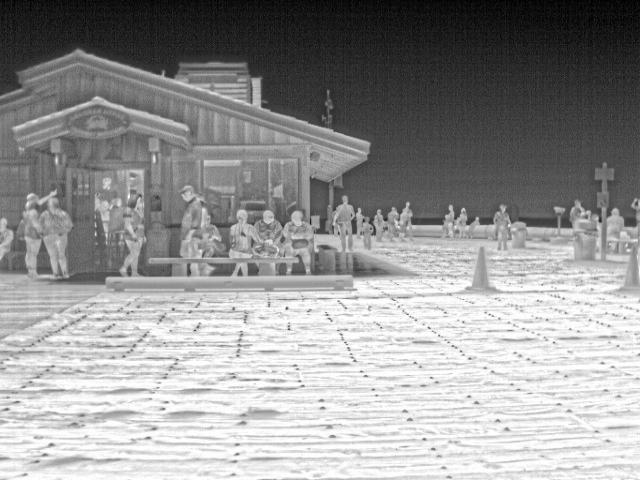person: (116, 188, 147, 278), (39, 194, 69, 279), (19, 190, 46, 278), (280, 210, 316, 274), (226, 208, 257, 260), (332, 193, 356, 252), (175, 184, 203, 232), (193, 209, 219, 258), (258, 210, 284, 257), (493, 204, 515, 250), (603, 207, 626, 241), (384, 206, 404, 242), (398, 202, 416, 240), (358, 218, 378, 252), (439, 204, 459, 237), (568, 198, 588, 229), (371, 207, 386, 242), (456, 205, 469, 238)
